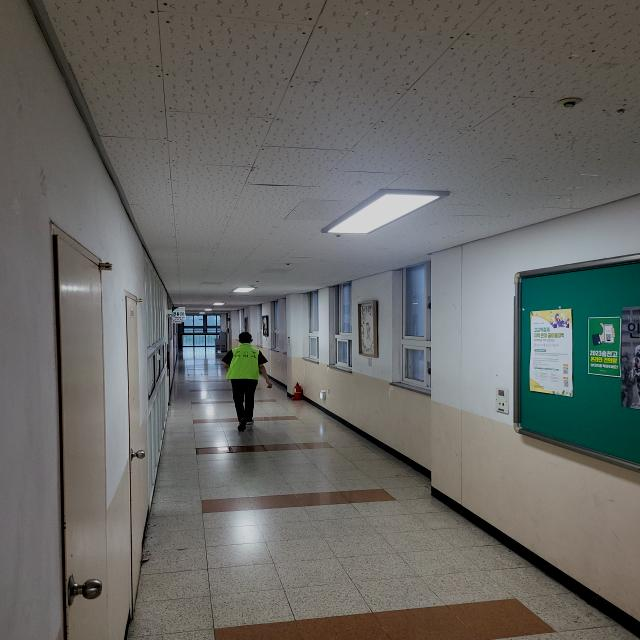weston_spy: (221, 336, 268, 389)
